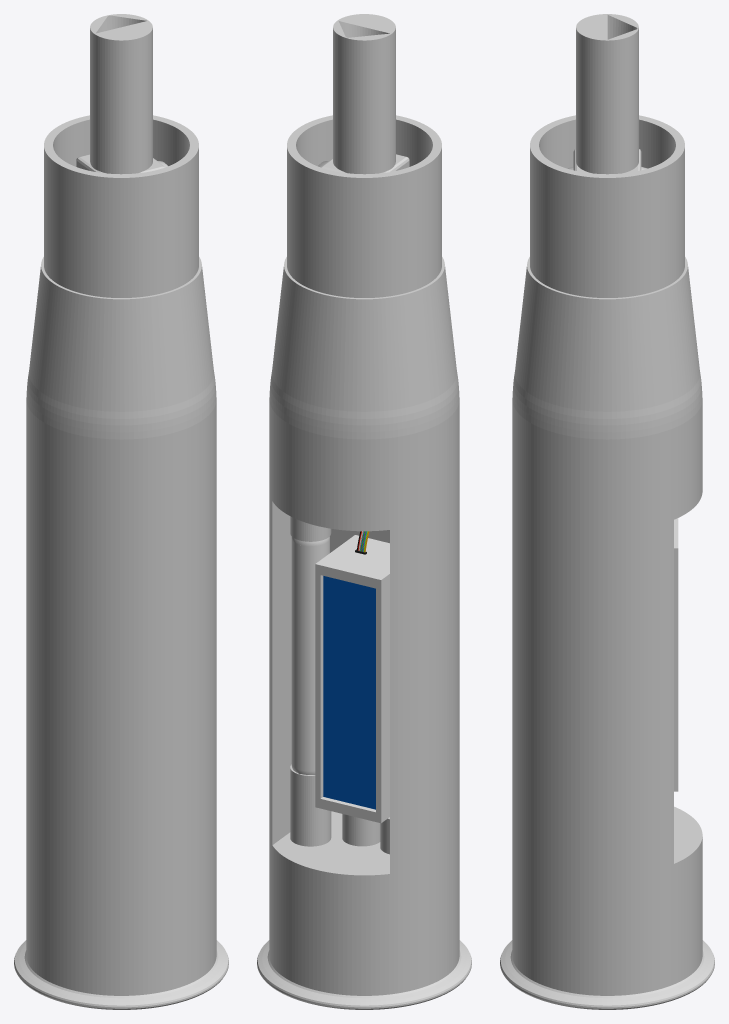
File: projoforce.fbx
3 renders of one model, left to right at view 1: azimuth 30°, elevation 25°; view 2: azimuth 150°, elevation 25°; view 3: azimuth 270°, elevation 25°, orthographic.
Parts seen in each view (by area): view 1: Case, Cylinder.006; view 2: Case, Computer.001, Cylinder.006, Computer, Cylinder.008, Cylinder.005, Cylinder.004, Cylinder.009; view 3: Case, Cylinder.006, Computer.
Part boxes in pixels (left/top/right/bottom): Case: left=14, top=115, right=228, bottom=1009; Cylinder.006: left=90, top=14, right=152, bottom=174; Case: left=257, top=115, right=471, bottom=1009; Computer.001: left=323, top=576, right=375, bottom=809; Cylinder.006: left=333, top=14, right=395, bottom=174; Computer: left=315, top=535, right=389, bottom=823; Cylinder.008: left=291, top=536, right=329, bottom=774; Cylinder.005: left=290, top=764, right=331, bottom=846; Cylinder.004: left=342, top=814, right=380, bottom=846; Cylinder.009: left=290, top=516, right=331, bottom=541; Case: left=500, top=115, right=714, bottom=1009; Cylinder.006: left=576, top=14, right=638, bottom=174; Computer: left=674, top=518, right=678, bottom=791.
Size of the model in its own units: 226 by 1088 by 226.
